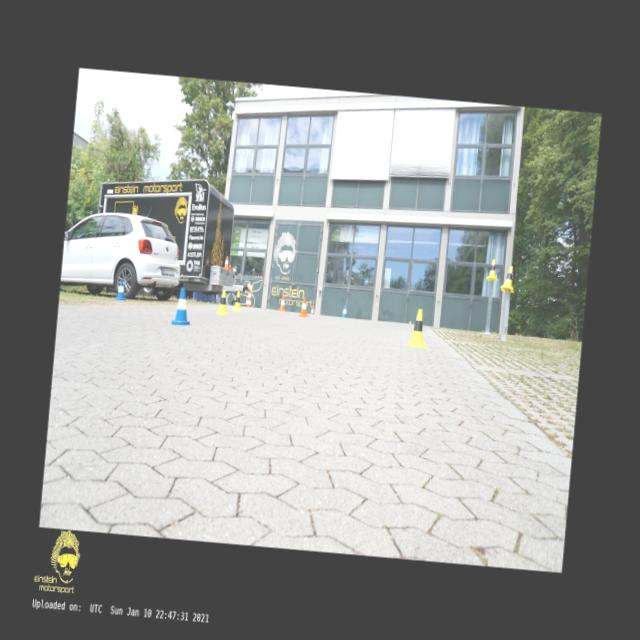blue_cone: (170, 287, 192, 326), (116, 279, 127, 300), (342, 304, 346, 317)
large_orange_cone: (246, 290, 252, 306)
orange_cone: (298, 297, 308, 316), (278, 295, 286, 310), (224, 255, 228, 268), (310, 304, 314, 314)
yellow_cone: (408, 308, 428, 347), (500, 265, 516, 292), (216, 290, 229, 314), (486, 259, 498, 280), (232, 290, 242, 310)
